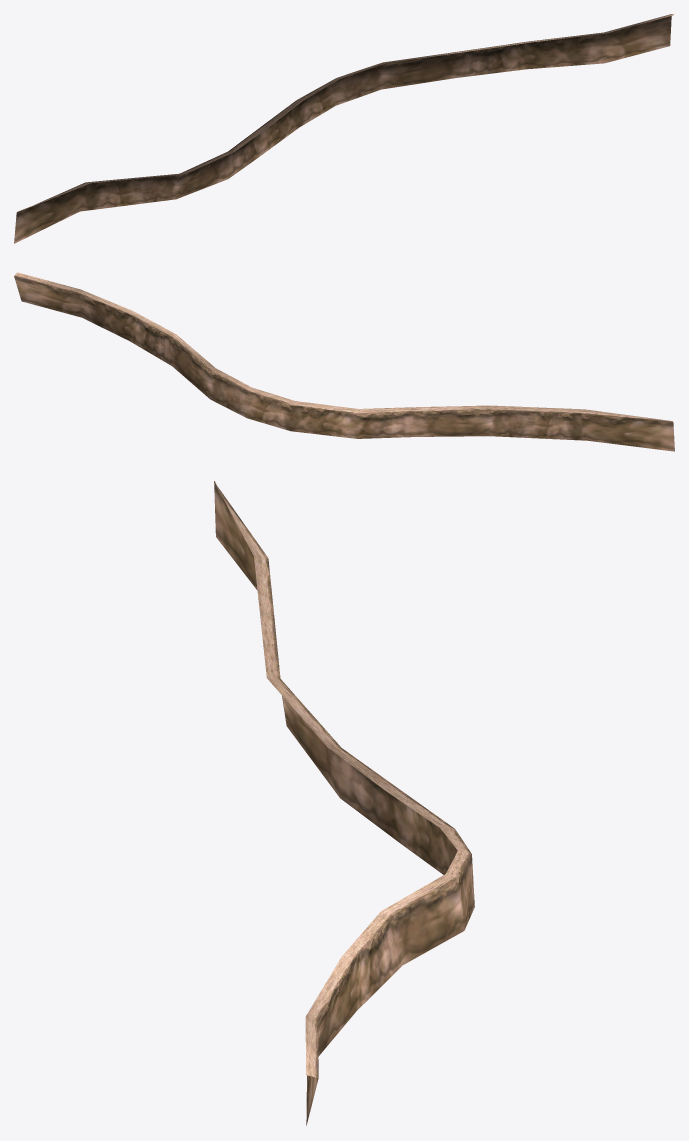
File: EKH_CAVERNS_PS_CA_EDGE_GRAB93849.fbx
3 views of the same model, one above another, from view 1: azimuth 30°, elevation 25°; view 2: azimuth 150°, elevation 25°; view 3: azimuth 270°, elevation 25° (orthographic). The views are drawn at different scales.
Visible parts, largest first — view 1: EKH_CAVERNS_PS_CA_EDGE_GRAB93849; view 2: EKH_CAVERNS_PS_CA_EDGE_GRAB93849; view 3: EKH_CAVERNS_PS_CA_EDGE_GRAB93849.
Part boxes in pixels (x1,y1,x2,y2): EKH_CAVERNS_PS_CA_EDGE_GRAB93849: (14, 14, 674, 243); EKH_CAVERNS_PS_CA_EDGE_GRAB93849: (14, 272, 674, 451); EKH_CAVERNS_PS_CA_EDGE_GRAB93849: (214, 481, 474, 1125).
Bounding box in the file's own units: 126991 × 11653 × 22571.
Materials: 1 (1 with a texture image).
